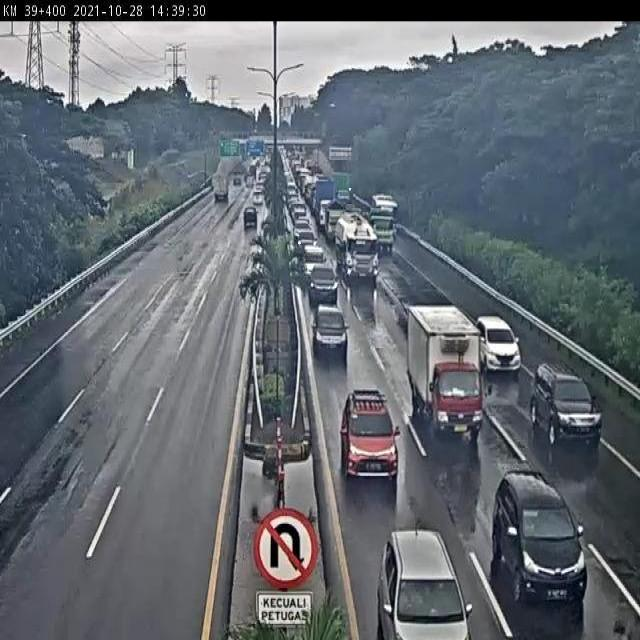big truck: (332, 210, 380, 286)
car: (485, 464, 595, 612), (372, 520, 475, 640), (525, 355, 607, 456), (335, 383, 401, 485), (469, 309, 522, 382), (311, 299, 348, 364), (304, 260, 340, 305), (238, 203, 262, 228), (249, 188, 268, 208), (251, 180, 268, 197), (242, 173, 257, 191)
small truck: (398, 295, 486, 448), (365, 200, 394, 253), (204, 168, 234, 211)
